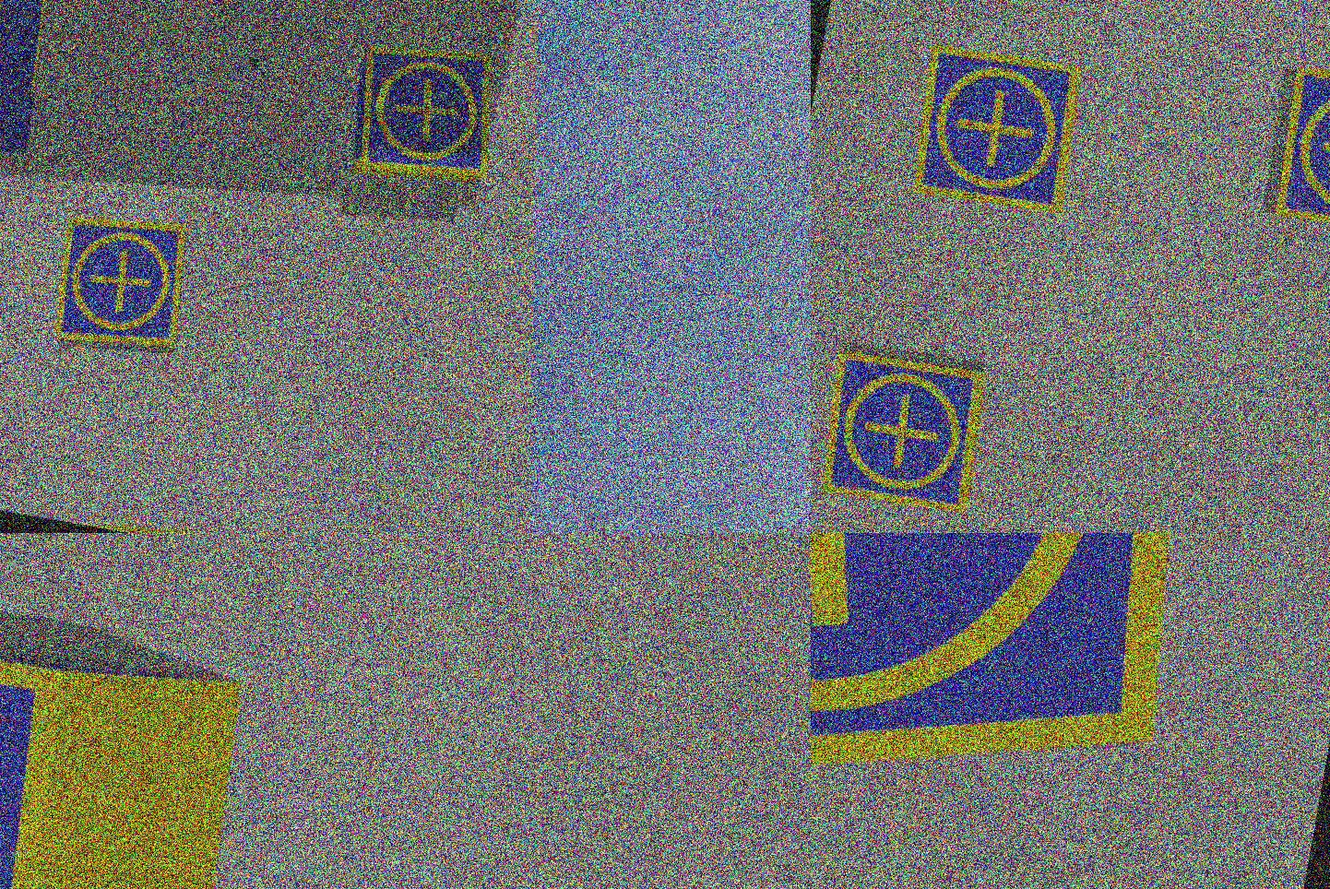small_base: (812, 534, 1250, 889), (908, 39, 1091, 220), (813, 343, 989, 516), (343, 33, 507, 192), (45, 204, 199, 360), (1, 646, 86, 889), (1269, 63, 1330, 242)
